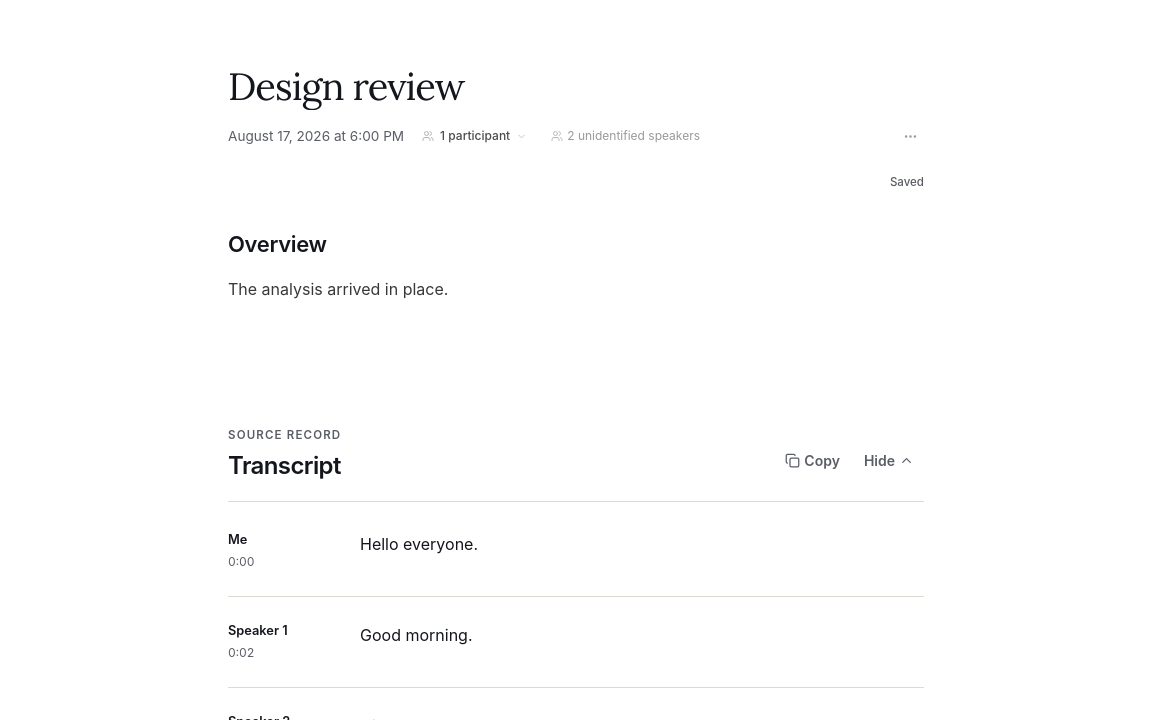
it: MeetingView progressive reveal › displays unidentified speakers in header metadata and opens identification modal
# Clicking header metadata trigger opens the modal
Click the button with id "meeting-header-speaker-review-trigger": {"x": 626, "y": 136} x1=545 y1=126 x2=706 y2=146
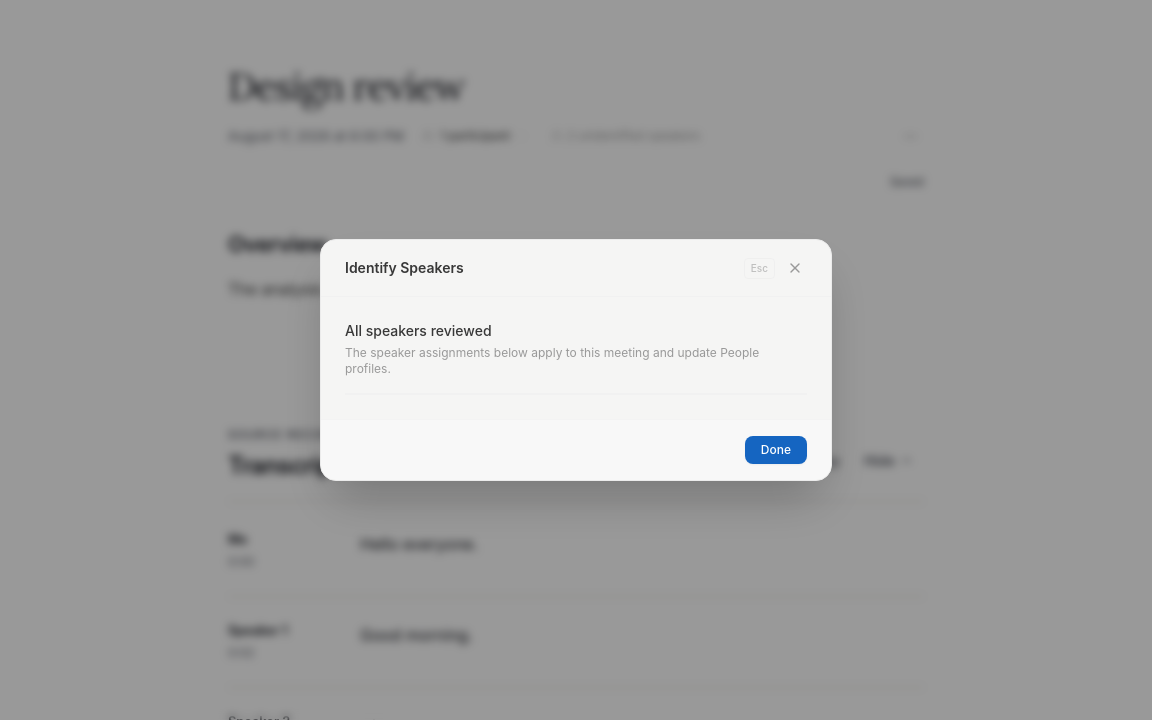
Expected: the dialog is shown
Expected: the text "Identify Speakers" is shown, x1=345 y1=258 x2=464 y2=278
